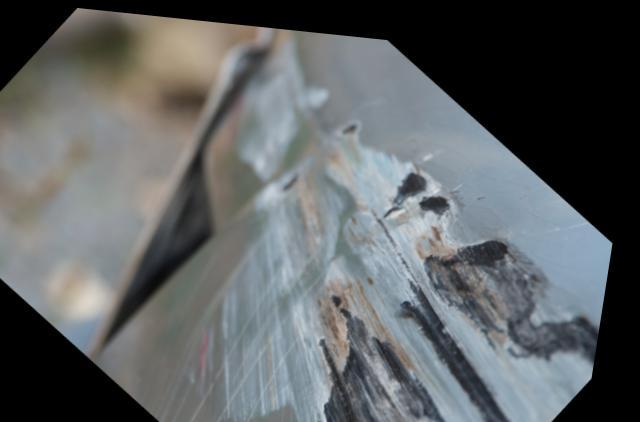scratch: (171, 24, 609, 422)
